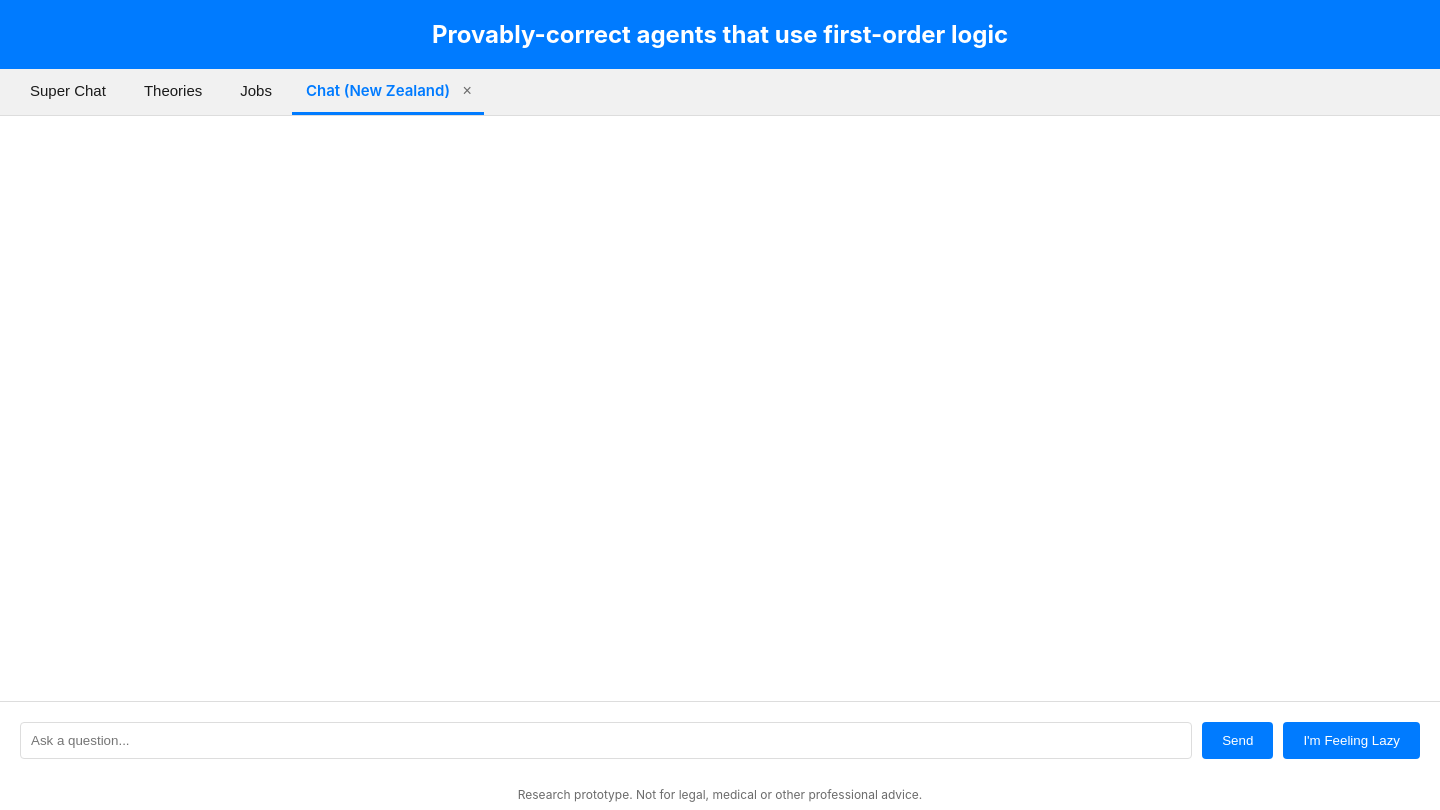
Scenario: a verified answer renders the Verified badge
Type "What is the capital?" into the field labelled "Ask a question". click: (606, 740)
box: 20,722 -> 1192,759
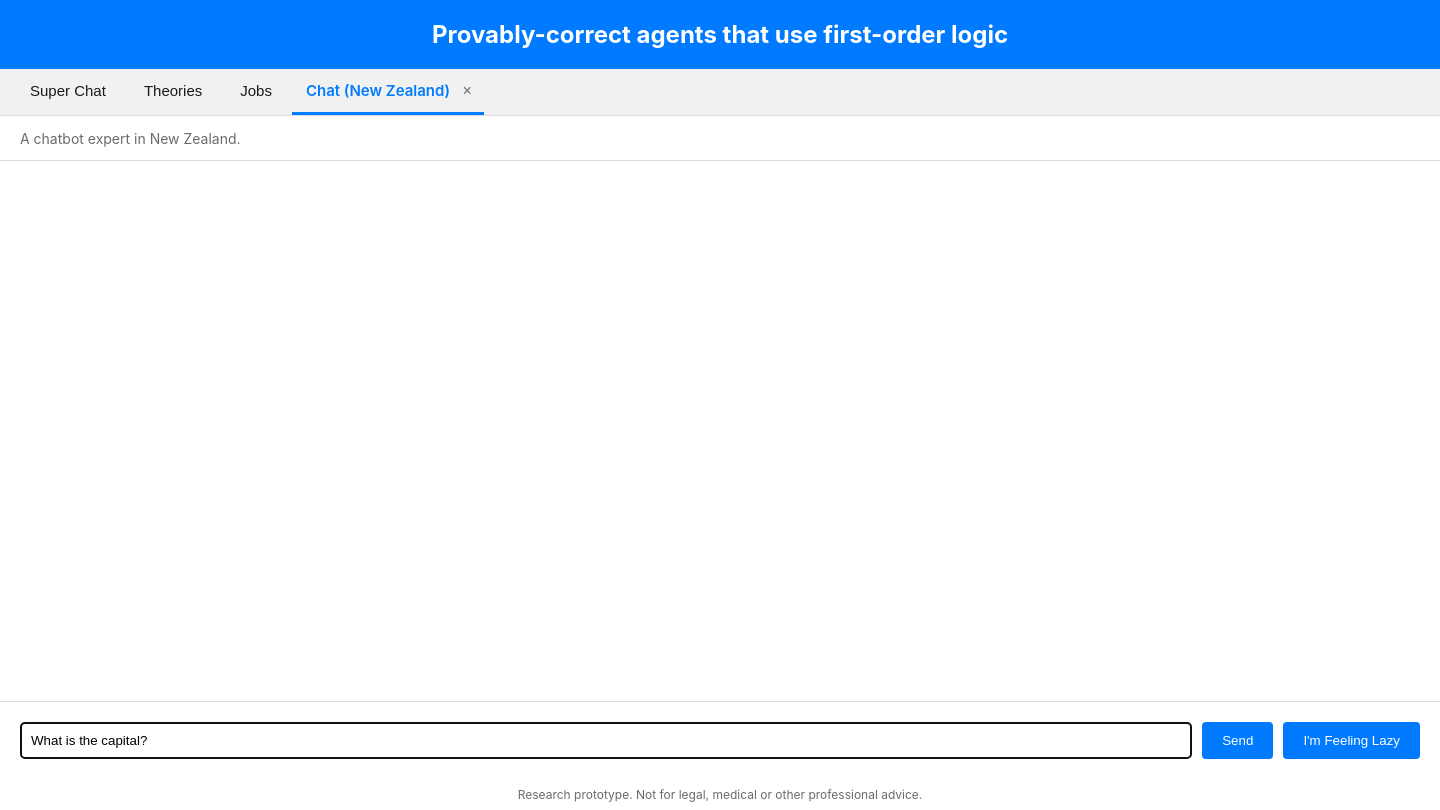
Click the button "Send". click: (1238, 740)
box: 1202,722 -> 1273,759
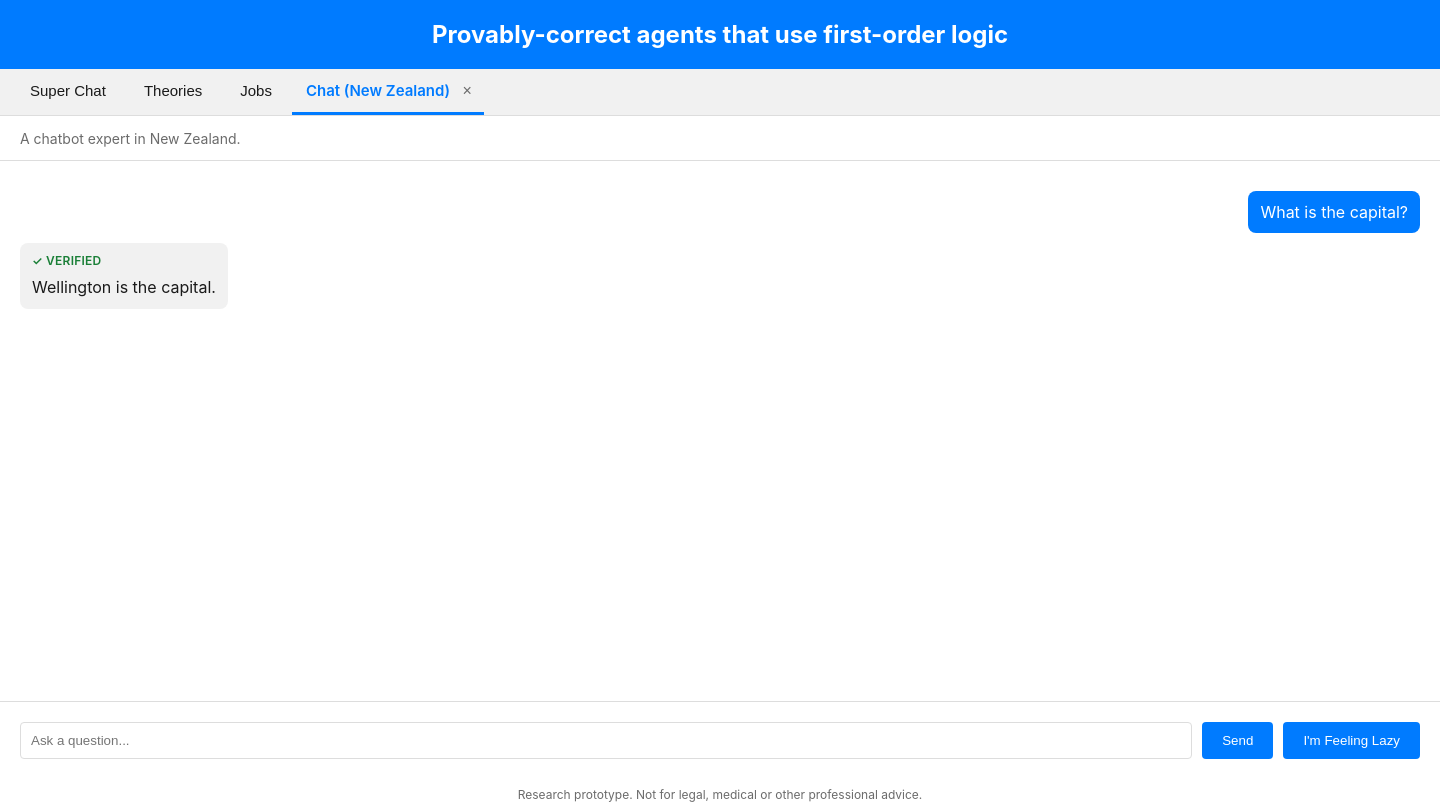
Check: the text "Wellington is the capital." is shown, box 32,276 -> 216,299
Check: the text "✓ Verified" is shown, box 32,253 -> 102,270
